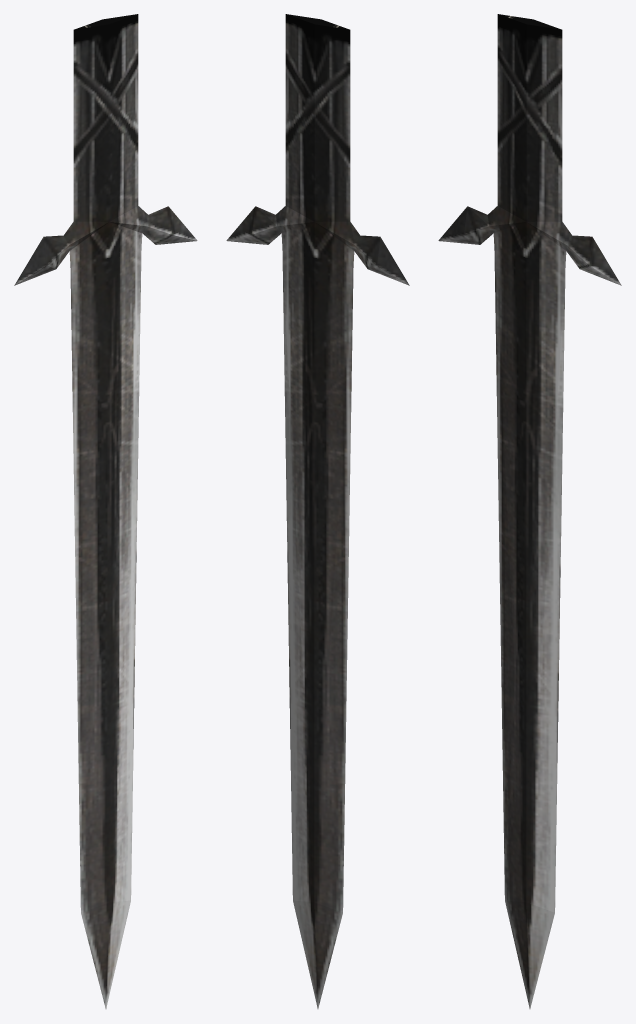
File: Shuangshoudajian_body.FBX
3 renders of one model, left to right at view 1: azimuth 30°, elevation 25°; view 2: azimuth 150°, elevation 25°; view 3: azimuth 330°, elevation 25°, orthographic.
Parts seen in each view (by area): view 1: Shuangshoudajian_body; view 2: Shuangshoudajian_body; view 3: Shuangshoudajian_body.
Boxes of the visible parts, x1,y1,x2,y2 form: Shuangshoudajian_body: (14,14,197,1008); Shuangshoudajian_body: (226,14,409,1008); Shuangshoudajian_body: (438,14,621,1008).
Size of the model in its own units: 24.77 by 127 by 1.75.
1 material, 1 textured.
